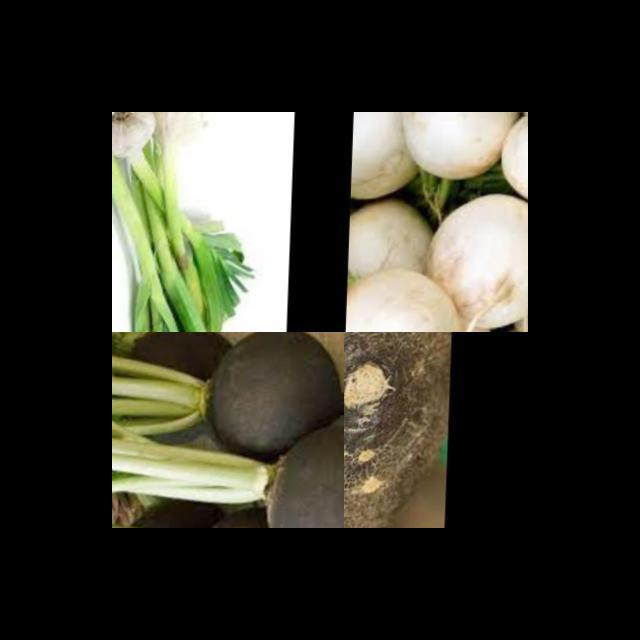garlic: (141, 112, 220, 161), (112, 112, 160, 176)
